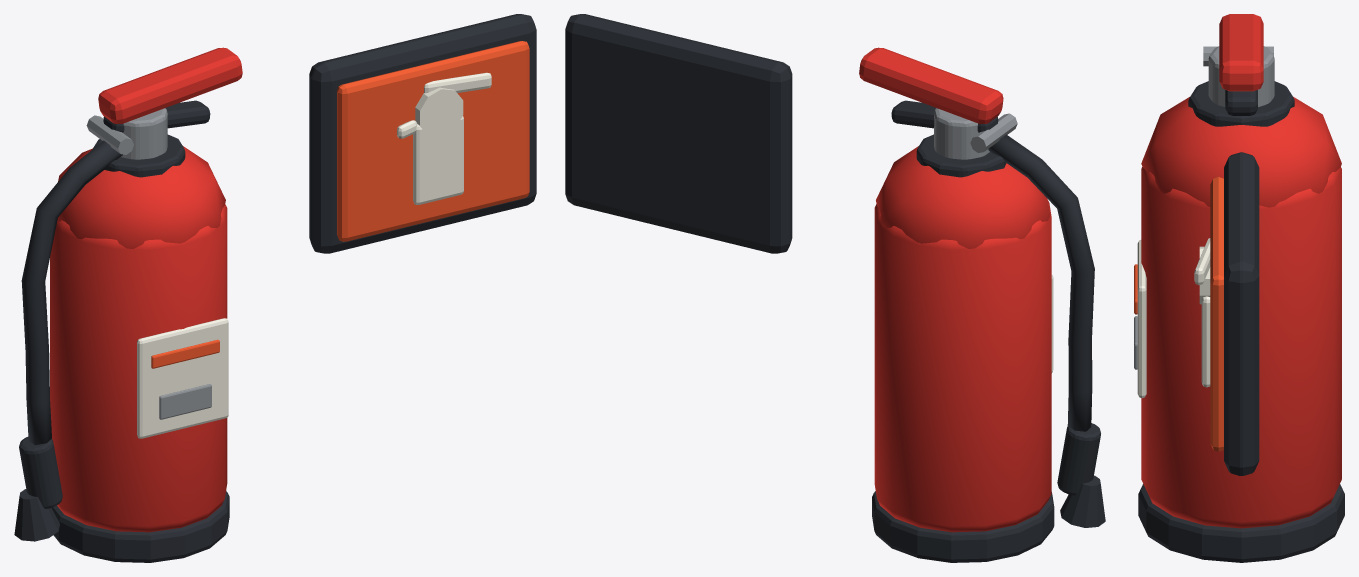
The model's file is extintor.fbx.
3 renders of one model, left to right at view 1: azimuth 30°, elevation 25°; view 2: azimuth 150°, elevation 25°; view 3: azimuth 270°, elevation 25°, orthographic. The views are drawn at different scales.
Parts seen in each view (by area): view 1: Extintor, Placa_Extintor; view 2: Extintor, Placa_Extintor; view 3: Extintor, Placa_Extintor.
Boxes of the visible parts, x1,y1,x2,y2 form: Extintor: (14,47,242,562); Placa_Extintor: (309,14,536,253); Extintor: (859,47,1105,562); Placa_Extintor: (565,14,792,253); Extintor: (1134,14,1344,562); Placa_Extintor: (1194,152,1259,475).
Size of the model in its own units: 231 by 191 by 71.45.
